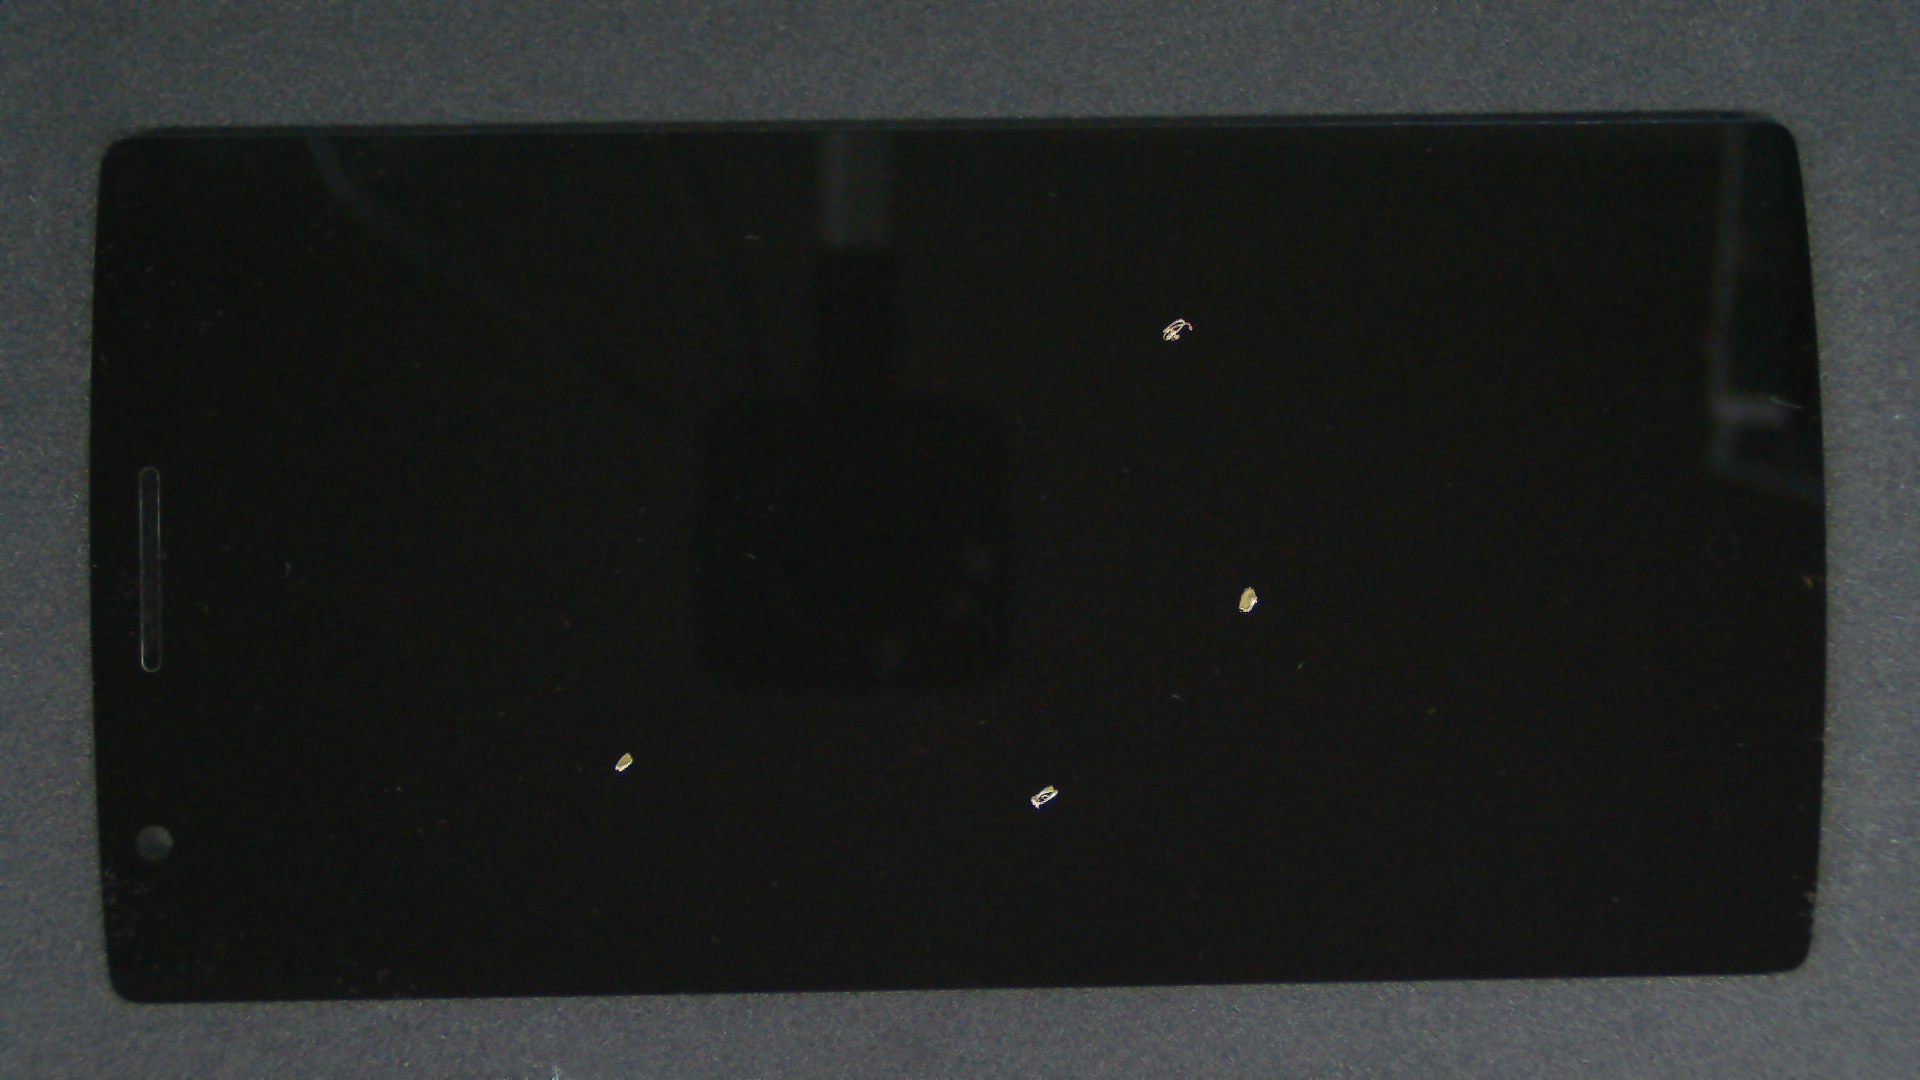defect: (1160, 316, 1192, 342), (1030, 783, 1059, 808), (1237, 585, 1258, 613), (613, 752, 634, 771)
